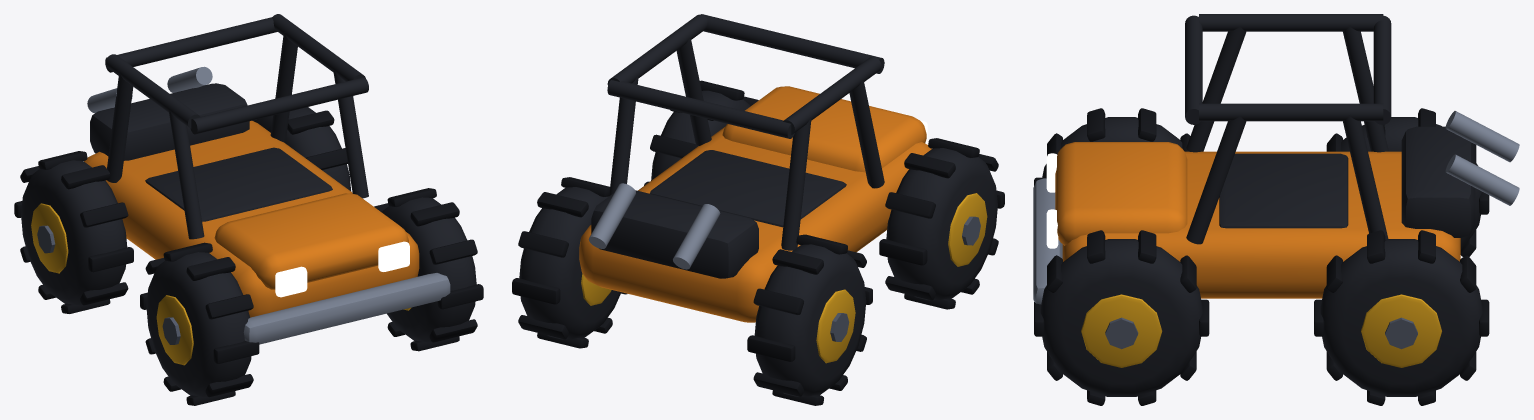
File: v_buggy.glb
3 views of the same model, side by side, from view 1: azimuth 30°, elevation 25°; view 2: azimuth 150°, elevation 25°; view 3: azimuth 270°, elevation 25° (orthographic). The views are drawn at different scales.
Parts seen in each view (by area): view 1: body, wheel_bl, wheel_fl, wheel_fr, wheel_br, lamp_glow; view 2: body, wheel_bl, wheel_fl, wheel_br, wheel_fr; view 3: body, wheel_br, wheel_fr, wheel_fl, wheel_bl, lamp_glow.
Boxes of the visible parts, box(x1,y1,x2,y2) form: body: box(84, 14, 450, 344); wheel_bl: box(14, 151, 133, 313); wheel_fl: box(140, 242, 259, 405); wheel_fr: box(374, 188, 483, 351); wheel_br: box(252, 107, 351, 191); lamp_glow: box(275, 241, 409, 297); body: box(579, 14, 931, 322); wheel_bl: box(747, 234, 872, 405); wheel_fl: box(879, 138, 1004, 309); wheel_br: box(512, 177, 627, 348); wheel_fr: box(644, 80, 758, 185); body: box(1033, 14, 1519, 304); wheel_br: box(1314, 230, 1489, 405); wheel_fr: box(1034, 230, 1209, 405); wheel_fl: box(1034, 108, 1190, 185); wheel_bl: box(1326, 108, 1489, 256); lamp_glow: box(1046, 153, 1058, 248).
Bounding box in the file's own units: 2.48 × 2.06 × 3.3.
